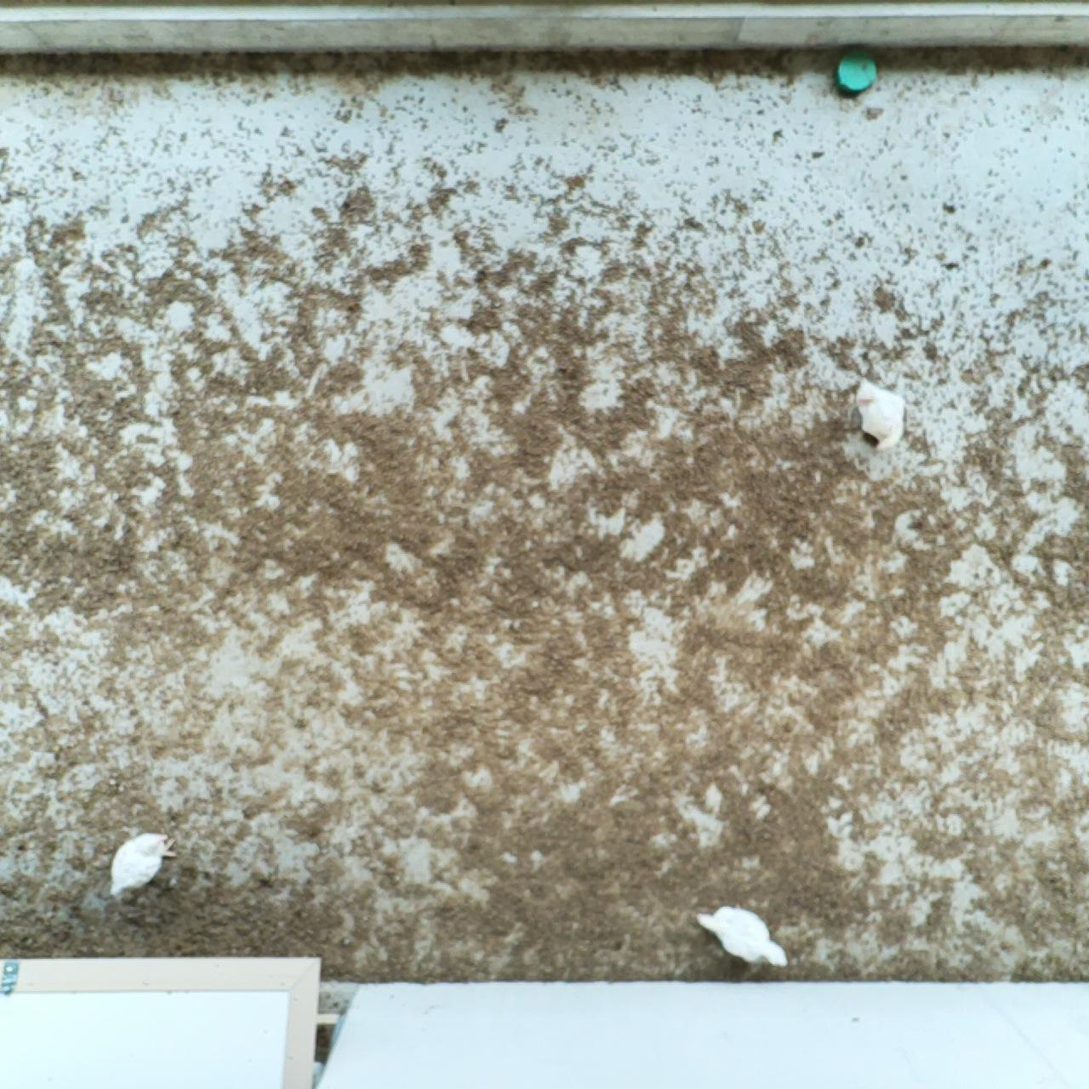chicken: (691, 898, 793, 973), (845, 372, 915, 457), (104, 828, 181, 902)
